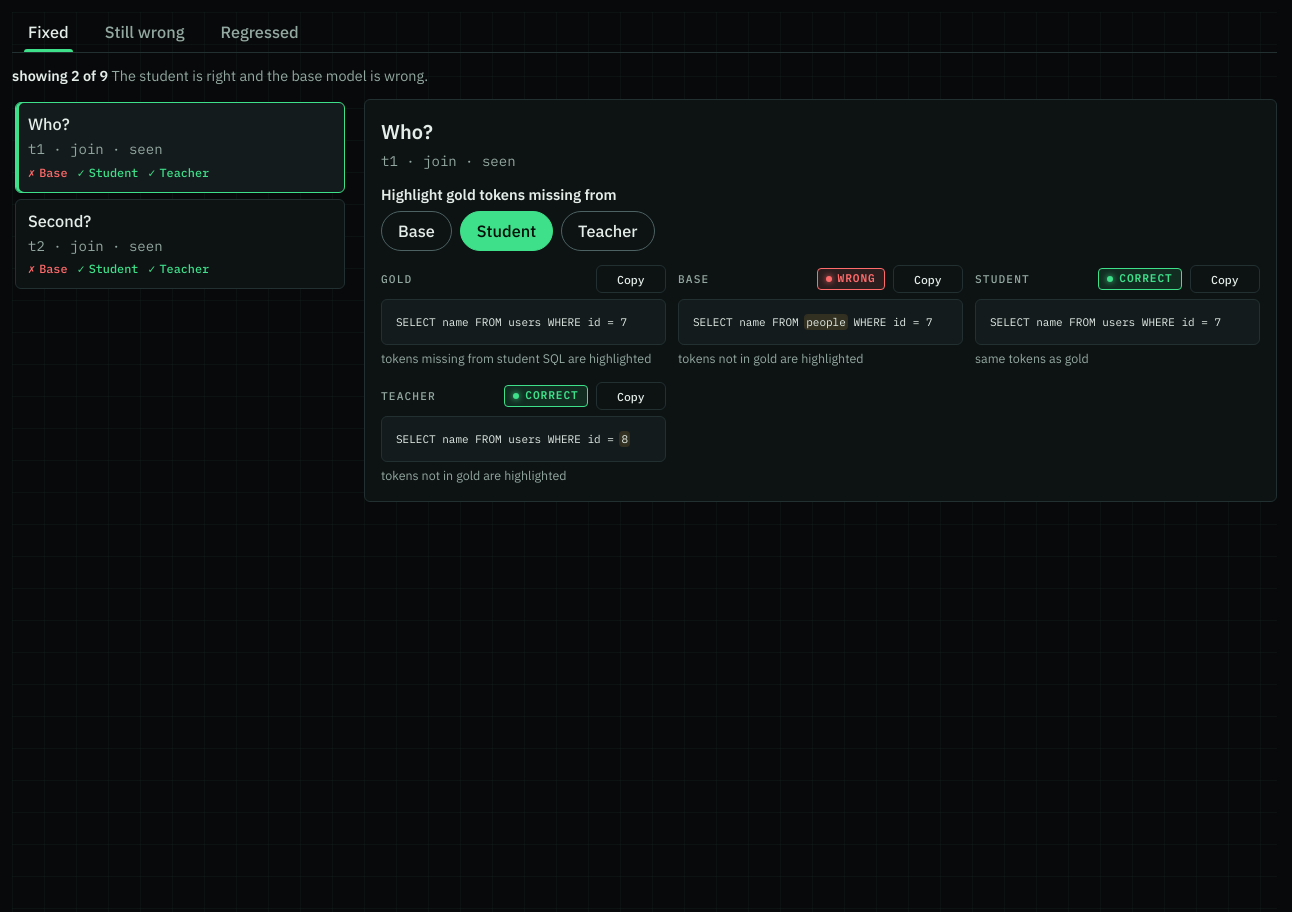
ExampleBrowser: master list and side-by-side › every SQL block has a copy button; the first is the gold SQL; success is reported only after the write resolved
Click the button with aria-label "Copy to clipboard" at x=631, y=279, box left=596, top=265, right=666, bottom=293
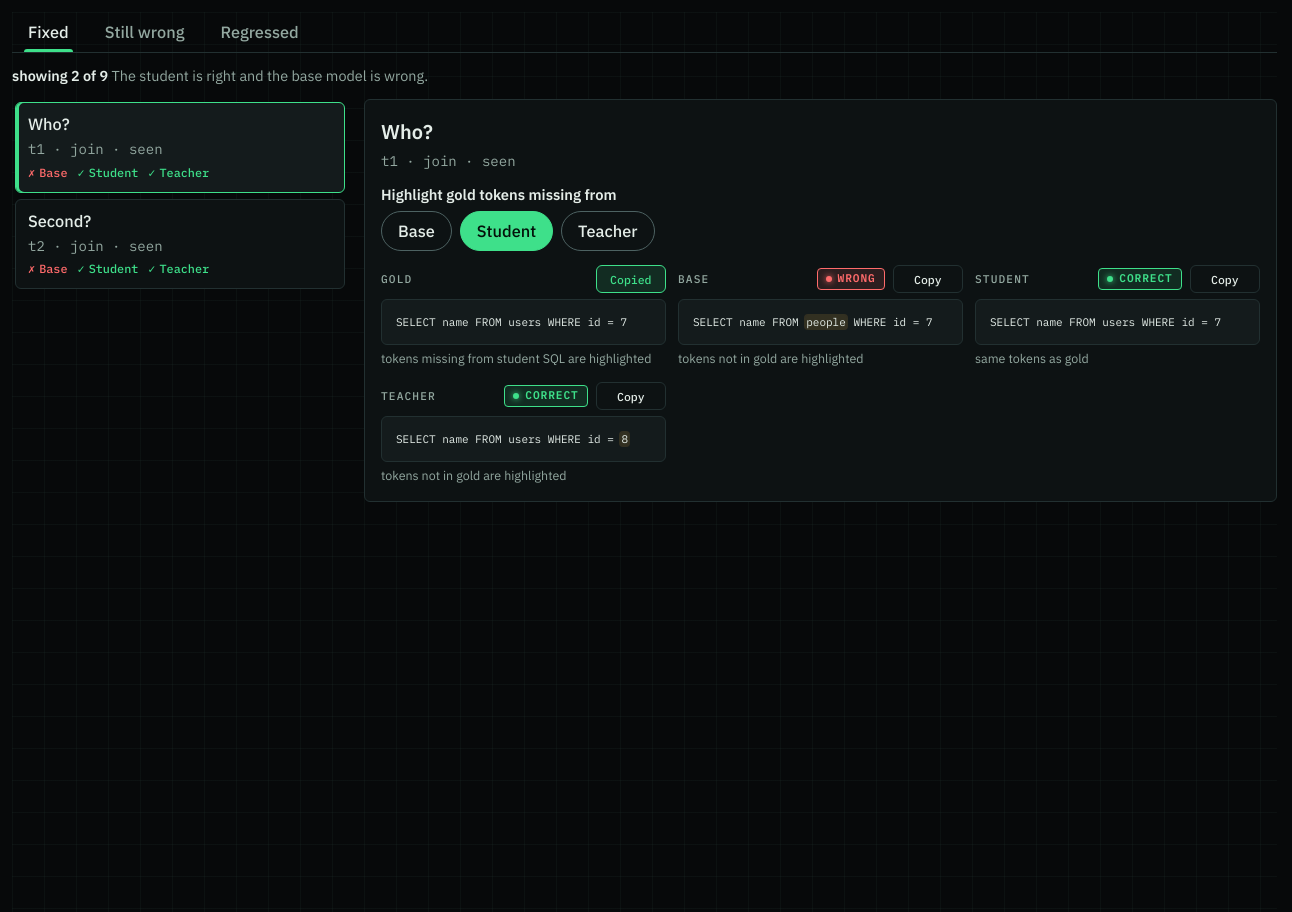
Now the button "Copied" is shown, box left=596, top=265, right=666, bottom=293
